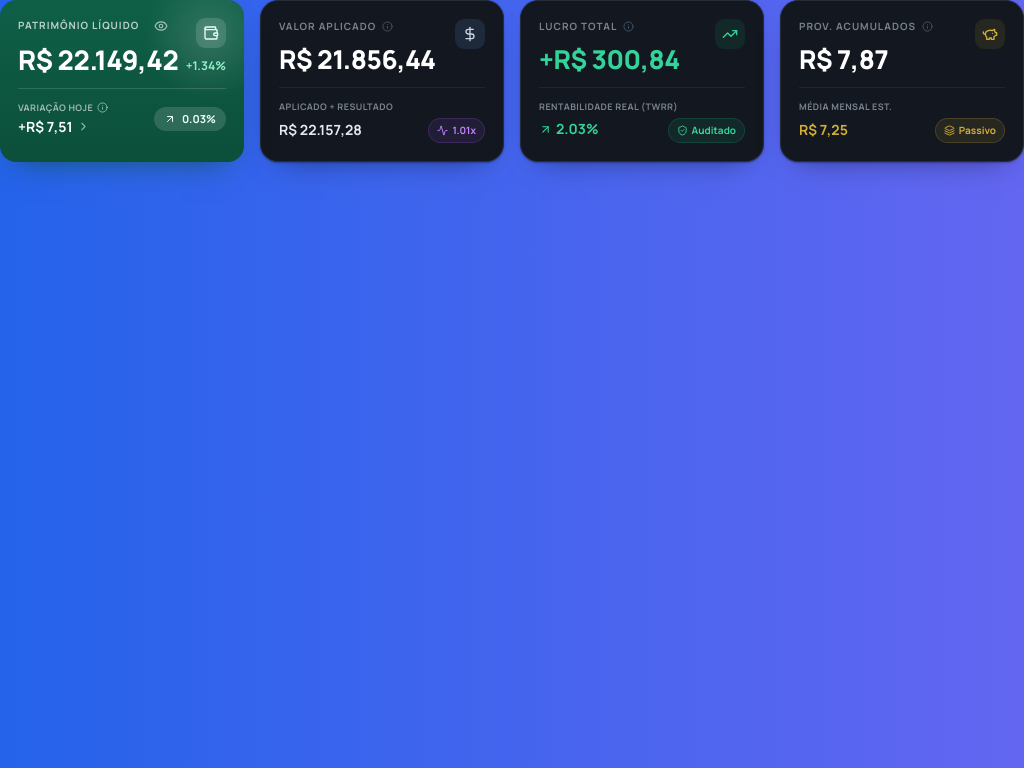
Scenario: WalletSummary › o detalhamento do dia abre pelo próprio card, com rótulo escrito
What coordinates should you click on to do the following:
click the button named "variação de hoje"
I would click on:
 (54, 126)
Its box is [14,112,94,140].
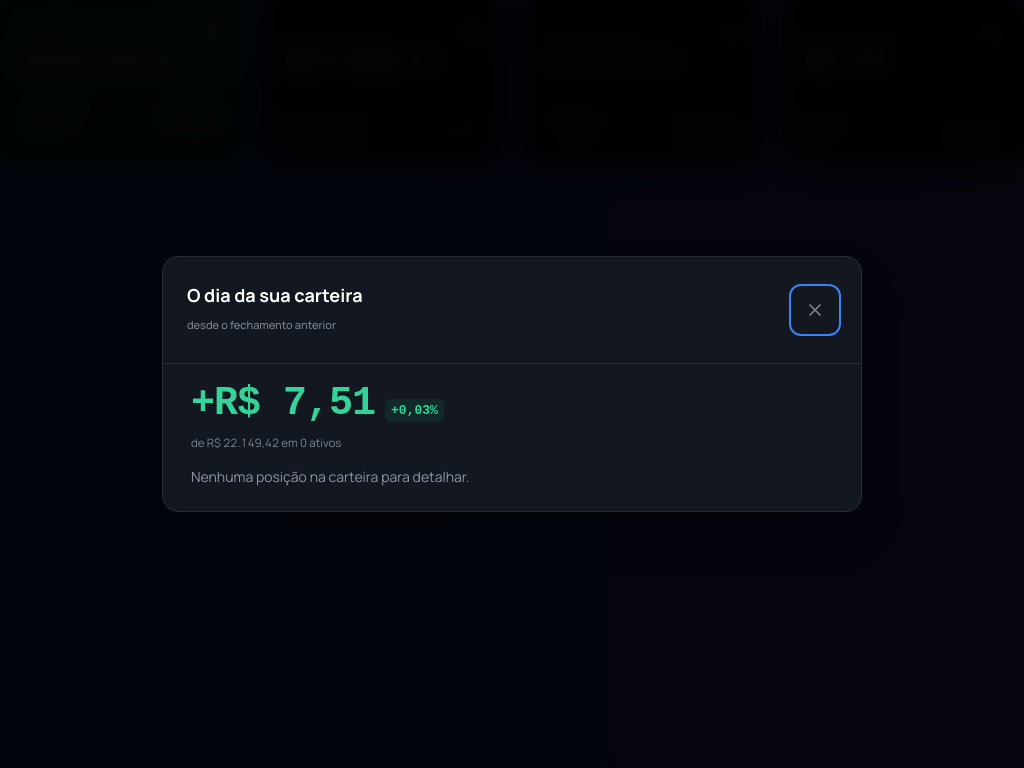
expect the text "O dia da sua carteira" is shown: met, box [187,281,362,309]
